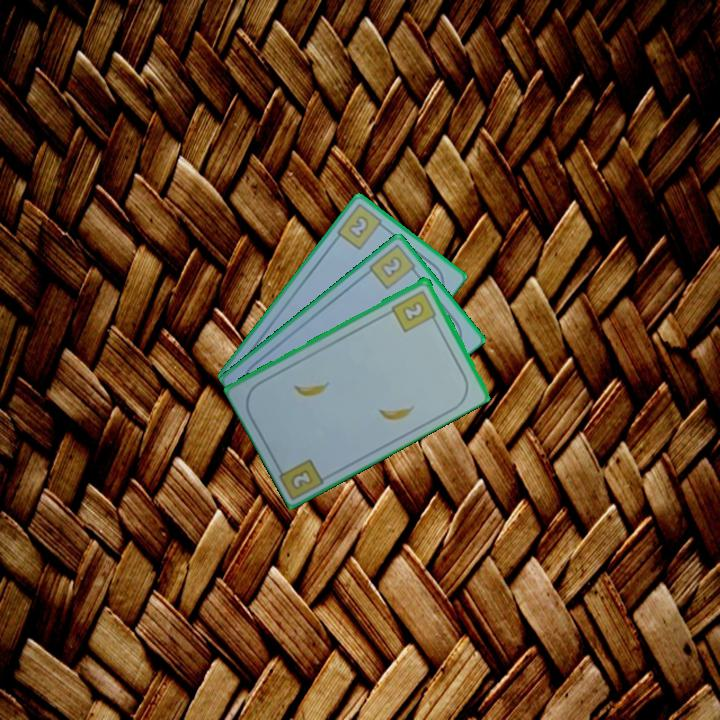2b: (333, 201, 390, 253), (365, 241, 422, 292), (388, 286, 440, 335), (287, 465, 316, 493)
